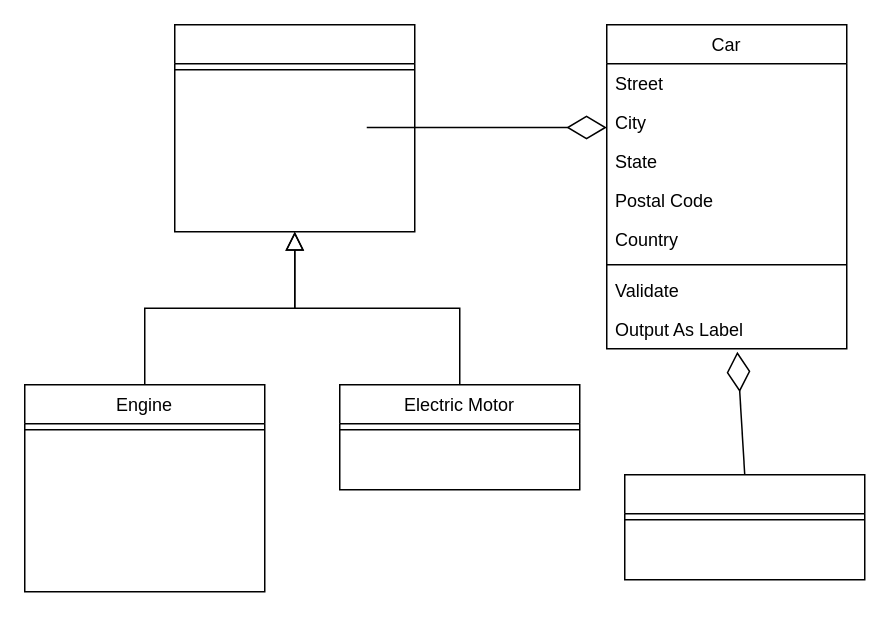
This 890x617 diagram has some shape labels left out. Each missing label, with the centre of its shape:
"batery" belongs at point (744, 526).
"Motor" belongs at point (294, 127).
